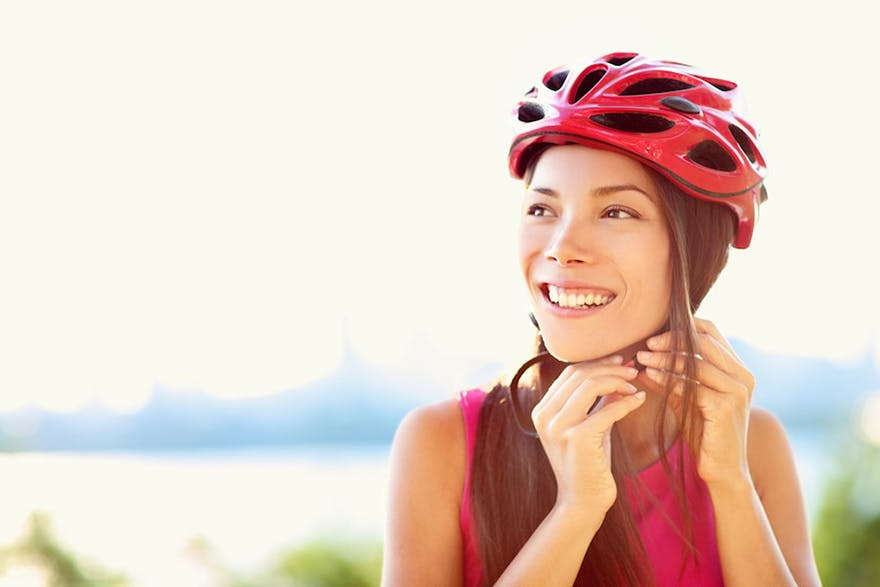helmet: (506, 50, 770, 362)
